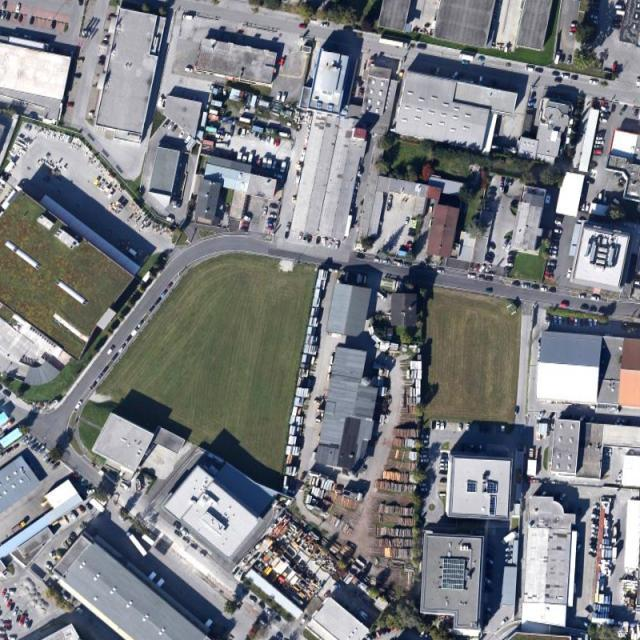vehicle: (379, 38, 408, 48), (501, 529, 518, 546), (206, 126, 222, 134), (459, 54, 474, 61), (554, 51, 562, 64), (278, 131, 291, 138), (180, 526, 188, 537), (74, 402, 82, 413), (266, 158, 273, 170), (182, 14, 194, 21), (170, 124, 179, 133), (478, 264, 487, 273), (502, 240, 510, 250), (70, 511, 77, 522), (2, 390, 11, 398), (118, 344, 126, 353), (106, 346, 114, 355), (95, 374, 103, 383), (473, 262, 481, 271), (298, 22, 307, 30), (153, 297, 161, 306), (146, 306, 155, 314), (135, 320, 143, 329), (200, 550, 209, 558), (259, 619, 267, 628), (588, 318, 594, 330), (553, 76, 562, 84), (247, 153, 254, 163), (503, 184, 510, 194), (85, 489, 95, 496), (537, 410, 544, 420), (286, 222, 292, 233), (590, 296, 601, 302), (174, 529, 182, 537), (243, 214, 251, 222), (160, 290, 168, 298), (102, 366, 110, 374), (19, 436, 27, 444), (34, 446, 42, 454), (26, 441, 34, 449), (559, 54, 566, 63), (185, 67, 194, 74), (522, 283, 531, 290), (90, 381, 97, 390), (30, 442, 37, 451), (262, 207, 268, 217), (51, 19, 57, 29), (20, 615, 26, 625), (417, 44, 427, 50), (216, 142, 228, 147), (320, 22, 330, 28), (612, 62, 618, 72), (534, 67, 544, 73), (16, 3, 22, 13), (593, 318, 598, 330), (514, 406, 521, 414), (501, 618, 509, 625), (190, 543, 198, 550), (111, 354, 119, 361), (591, 522, 599, 529), (553, 70, 561, 77), (613, 547, 617, 561), (265, 608, 273, 615), (258, 602, 266, 609), (490, 242, 497, 250), (131, 329, 138, 337), (166, 282, 173, 290), (4, 447, 11, 455), (23, 438, 30, 446), (281, 162, 286, 173), (46, 562, 52, 571), (6, 12, 12, 21), (590, 513, 599, 519), (485, 258, 494, 264), (215, 134, 225, 139), (615, 5, 625, 10), (436, 270, 446, 275), (559, 302, 569, 307), (577, 543, 582, 553), (581, 203, 586, 213), (387, 195, 392, 205), (487, 558, 494, 565), (251, 595, 258, 602), (13, 443, 20, 450), (365, 634, 373, 640), (439, 492, 447, 498), (10, 603, 16, 611), (590, 548, 598, 554), (554, 228, 562, 234), (613, 526, 617, 538), (43, 454, 49, 462), (73, 73, 82, 78), (75, 57, 84, 62), (561, 74, 570, 79), (241, 129, 246, 138), (329, 240, 334, 249), (600, 118, 609, 123), (453, 71, 458, 80), (553, 315, 558, 324), (269, 213, 278, 218), (485, 578, 492, 584), (506, 546, 513, 552), (18, 15, 24, 22), (226, 133, 233, 139), (479, 275, 486, 281), (38, 449, 44, 456), (589, 552, 596, 558), (506, 553, 514, 558), (440, 470, 448, 475), (441, 422, 446, 430), (66, 102, 74, 107), (1, 590, 6, 598), (478, 57, 486, 62), (570, 28, 578, 33), (596, 140, 606, 144), (593, 150, 603, 154), (281, 94, 286, 102), (335, 240, 339, 250), (591, 529, 599, 534), (554, 233, 562, 238), (550, 249, 558, 254), (550, 254, 558, 259), (486, 254, 494, 259), (506, 263, 514, 268), (509, 251, 517, 256), (590, 80, 598, 85), (528, 101, 536, 106), (420, 458, 429, 462), (238, 152, 242, 161), (263, 158, 267, 167), (16, 616, 22, 622), (567, 56, 571, 65), (594, 504, 600, 510), (547, 262, 556, 266), (512, 282, 521, 286), (276, 616, 282, 622), (558, 317, 562, 326), (506, 557, 513, 562), (316, 237, 321, 244), (7, 600, 12, 607), (13, 609, 18, 616), (595, 136, 602, 141), (422, 434, 430, 438), (420, 454, 428, 458), (419, 482, 427, 486), (441, 454, 449, 458), (2, 2, 6, 10), (2, 11, 6, 19), (303, 234, 307, 242), (374, 259, 382, 263), (382, 260, 390, 264), (166, 217, 174, 221), (30, 17, 34, 25), (569, 32, 577, 36), (545, 275, 553, 279), (578, 295, 586, 299), (258, 158, 262, 166), (436, 422, 440, 430), (570, 318, 574, 326), (574, 318, 578, 326), (241, 222, 249, 226), (89, 112, 95, 117), (24, 620, 29, 626), (572, 76, 578, 81), (634, 280, 640, 285), (556, 221, 562, 226), (566, 273, 571, 279), (499, 184, 504, 190), (510, 178, 515, 184), (441, 479, 448, 483), (440, 463, 447, 467), (276, 139, 280, 146), (29, 622, 33, 629), (571, 23, 578, 27), (591, 534, 598, 538), (546, 266, 553, 270), (546, 271, 553, 275), (636, 79, 640, 86), (435, 68, 439, 75), (378, 631, 382, 638), (486, 289, 493, 293), (594, 146, 603, 149), (1, 630, 6, 635), (370, 633, 374, 639), (374, 632, 378, 638), (382, 629, 386, 635), (440, 467, 448, 470), (458, 424, 462, 430), (14, 14, 18, 20), (277, 93, 281, 99), (259, 134, 263, 140), (8, 637, 16, 640), (506, 62, 512, 66), (508, 258, 514, 262), (526, 68, 534, 71), (3, 2, 6, 10), (422, 440, 429, 443), (441, 459, 448, 462), (467, 423, 470, 430), (1, 384, 4, 391), (299, 234, 302, 241), (323, 239, 326, 246), (486, 277, 493, 280), (421, 488, 429, 490), (542, 288, 547, 291), (506, 268, 512, 270), (1, 612, 2, 617)
